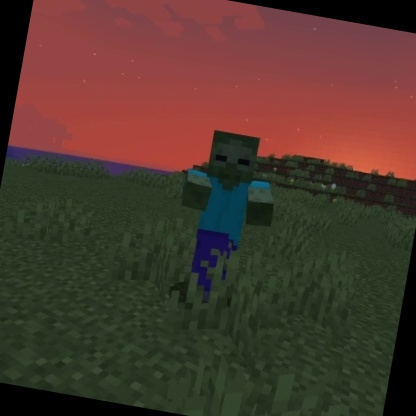zombie: (161, 123, 291, 318)
